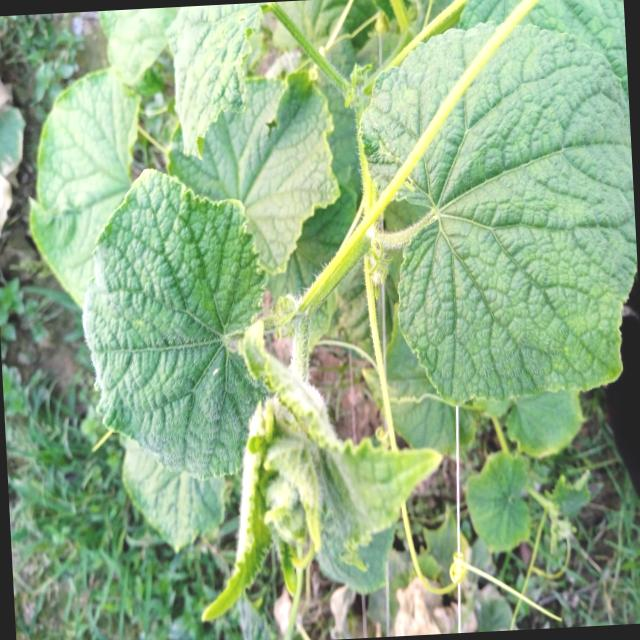cucumber_healthy: (352, 13, 640, 415), (70, 158, 285, 488), (154, 58, 346, 284), (19, 62, 142, 316), (257, 416, 449, 576), (160, 2, 272, 156), (456, 448, 538, 560)
